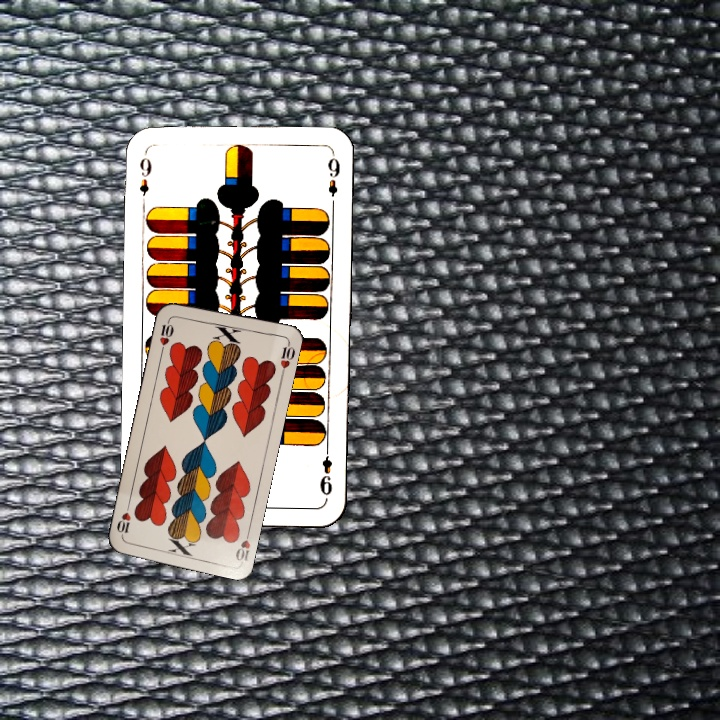E9: (316, 442, 335, 501), (136, 149, 154, 208)
H10: (232, 524, 253, 565), (155, 314, 176, 354)
